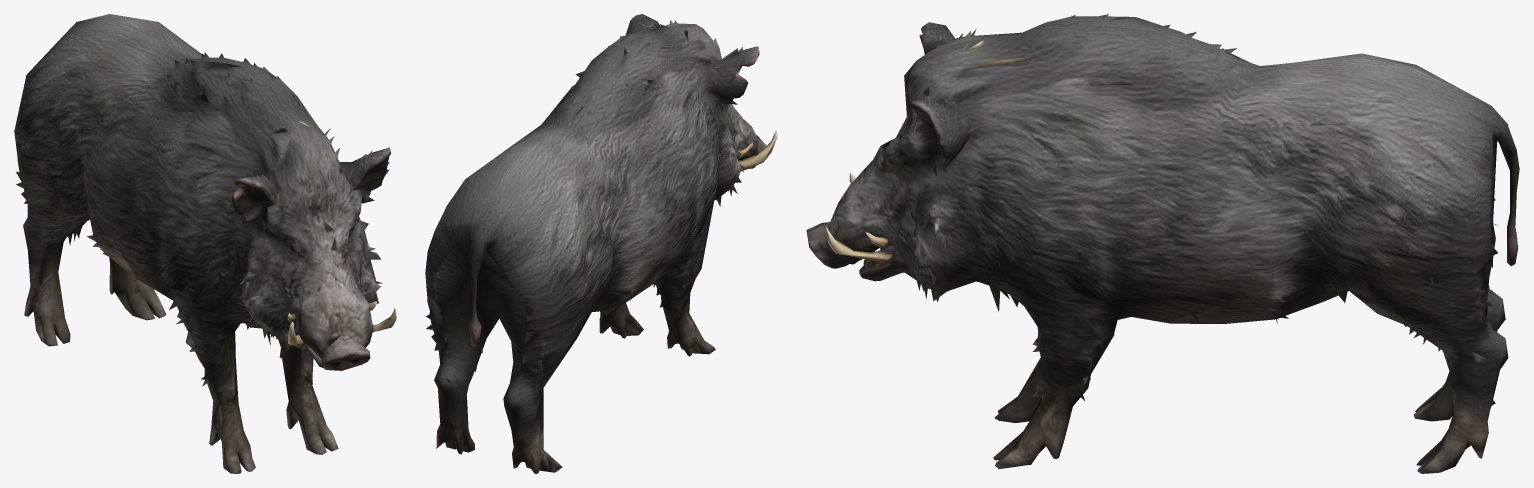
Rendered from javaporco_velho_cicatrizado_lod.glb.
The picture shows the model from 3 angles, left to right: view 1: azimuth 30°, elevation 25°; view 2: azimuth 150°, elevation 25°; view 3: azimuth 270°, elevation 25°; orthographic projection. The views are drawn at different scales.
Parts seen in each view (by area): view 1: Javaporco velho cicatrizado; view 2: Javaporco velho cicatrizado; view 3: Javaporco velho cicatrizado.
Boxes of the visible parts, x1=… form: Javaporco velho cicatrizado: x1=14, y1=14, x2=396, y2=473; Javaporco velho cicatrizado: x1=425, y1=14, x2=777, y2=473; Javaporco velho cicatrizado: x1=806, y1=14, x2=1519, y2=473.
Size of the model in its own units: 0.3418 by 0.6582 by 0.998.
Materials: 1 (1 with a texture image).
